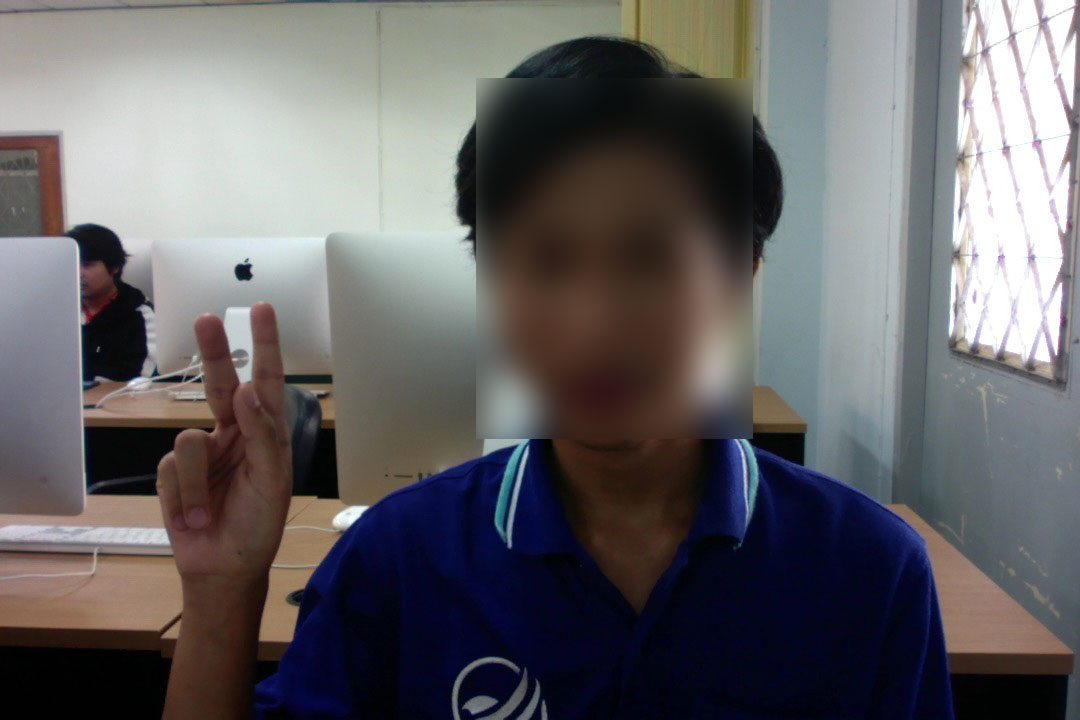ko: (145, 290, 303, 590)
